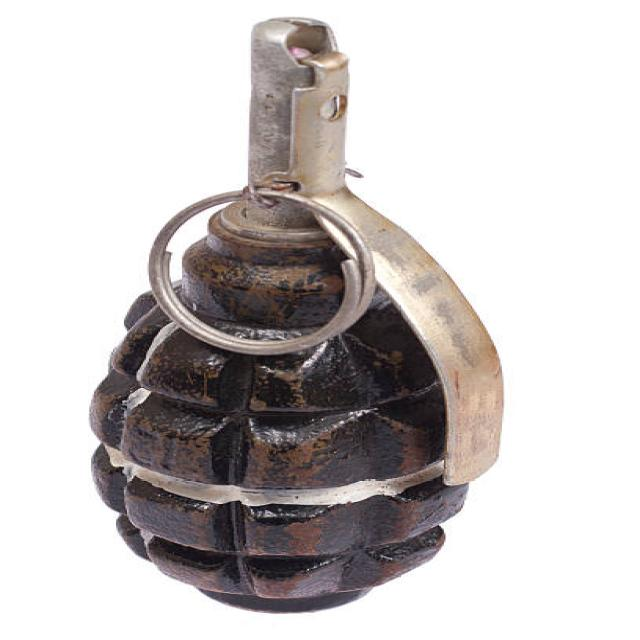grenade: (75, 9, 516, 621)
